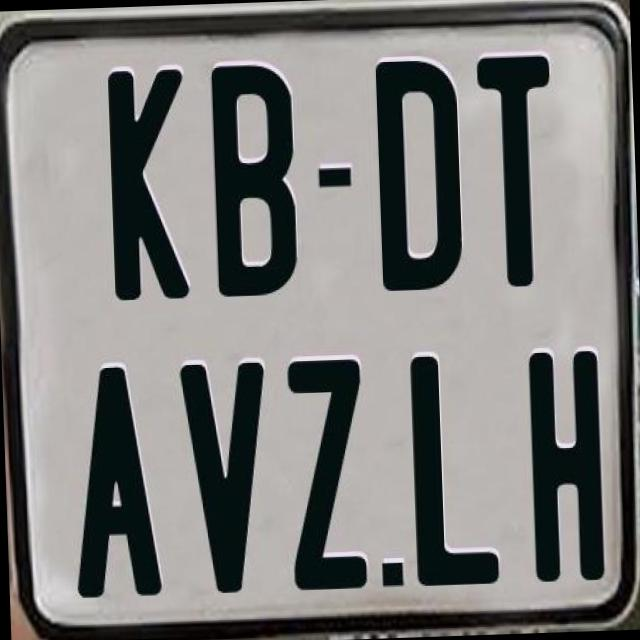A: (70, 365, 166, 607)
B: (208, 63, 303, 298)
D: (372, 59, 467, 299)
H: (526, 349, 608, 588)
K: (108, 68, 190, 310)
L: (408, 352, 502, 590)
T: (477, 52, 558, 294)
V: (175, 362, 267, 597)
Z: (284, 356, 370, 588)
